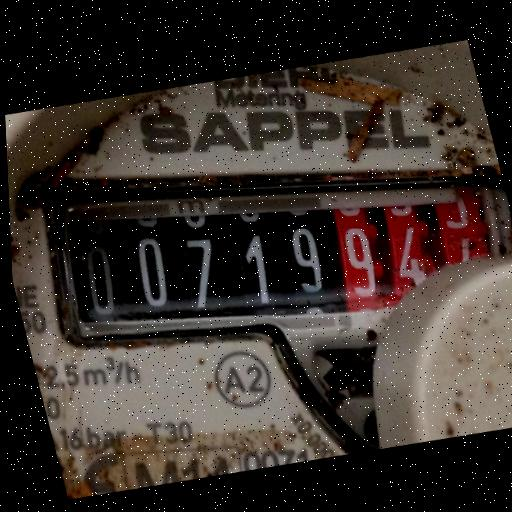0: (54, 210, 146, 331), (110, 209, 196, 327)
1: (210, 202, 303, 325)
4: (365, 195, 450, 312)
5: (429, 181, 497, 269)
7: (160, 206, 246, 325)
9: (314, 199, 400, 319), (265, 202, 349, 323)
border_water_meter_number: (17, 86, 512, 420)
